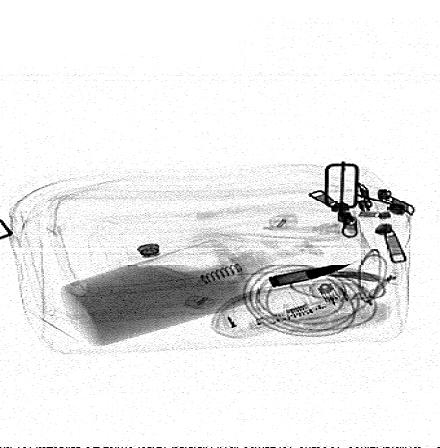Bullet: (266, 264, 351, 288)
